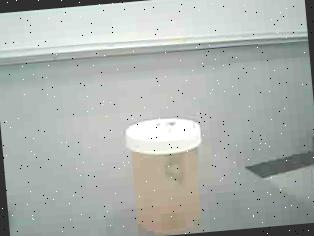Bottle B: (120, 113, 214, 236)
